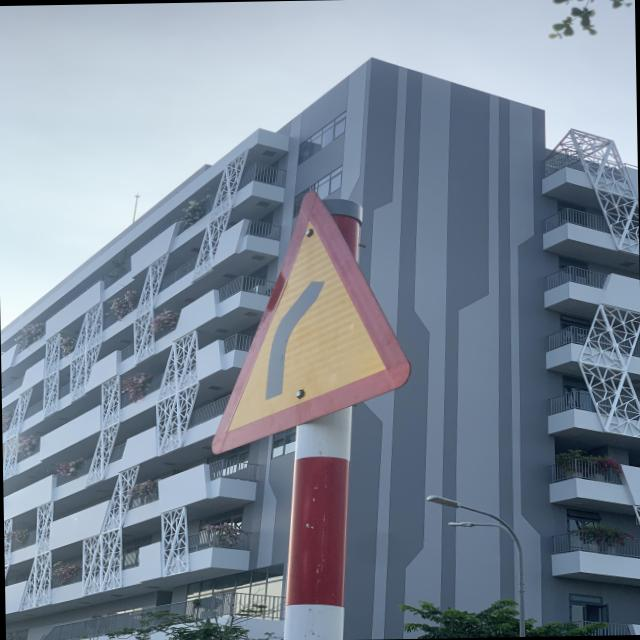Duong_Nguoi_Di_Bo_Cat_Ngang: (204, 186, 410, 462)
